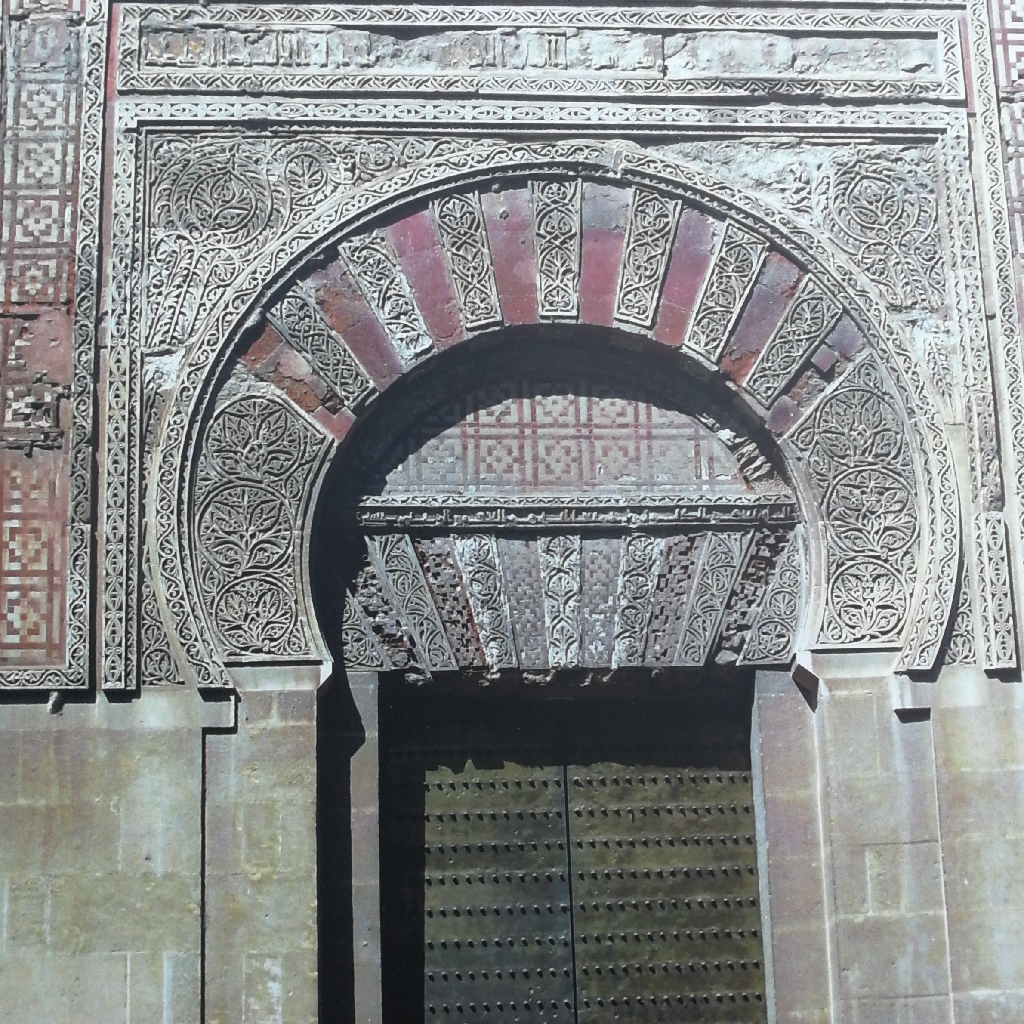arco-herradura: (263, 292, 859, 731)
dintel-adovelado: (333, 500, 791, 674)
